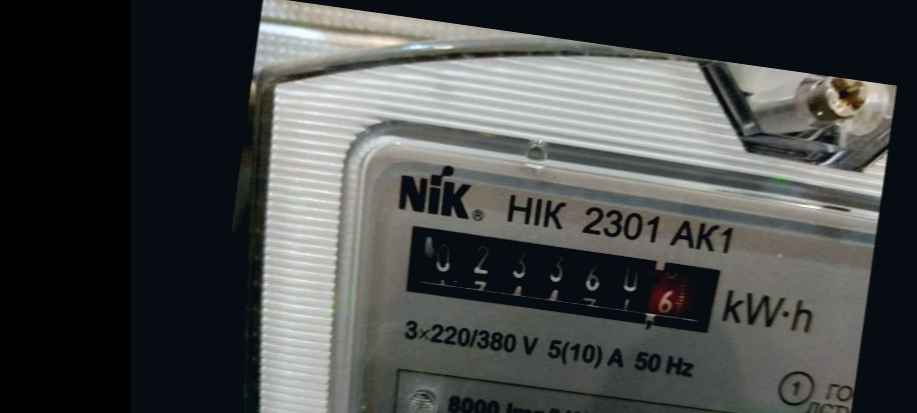0: (431, 238, 456, 273), (621, 260, 642, 293)
2: (469, 240, 496, 277)
3: (507, 245, 532, 280), (546, 250, 569, 283)
6: (581, 258, 605, 292), (653, 283, 678, 315)
screen: (384, 205, 736, 350)
